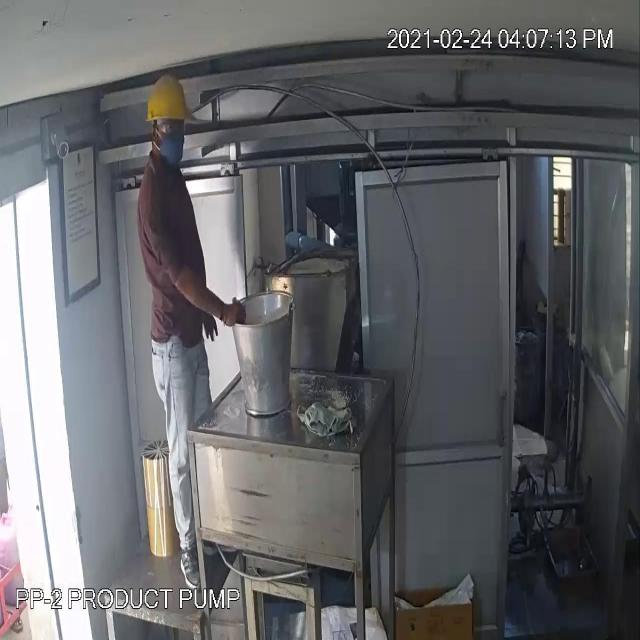hat: (142, 65, 192, 137)
